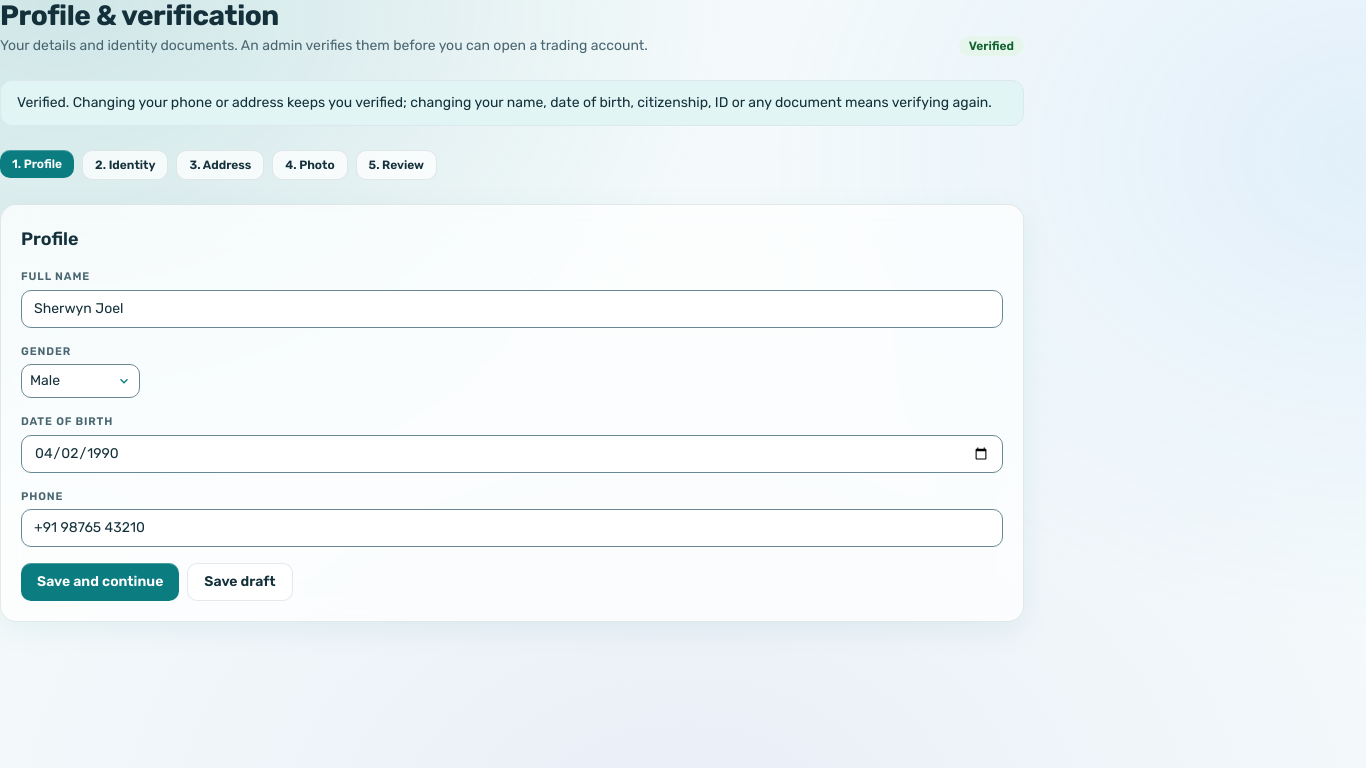
it: an approved investor who changes their name is told to submit again
Step 1. Replace the text in the field labelled "Full name" with "Sherwyn J" → {"x": 512, "y": 309}, box [21, 290, 1003, 328]
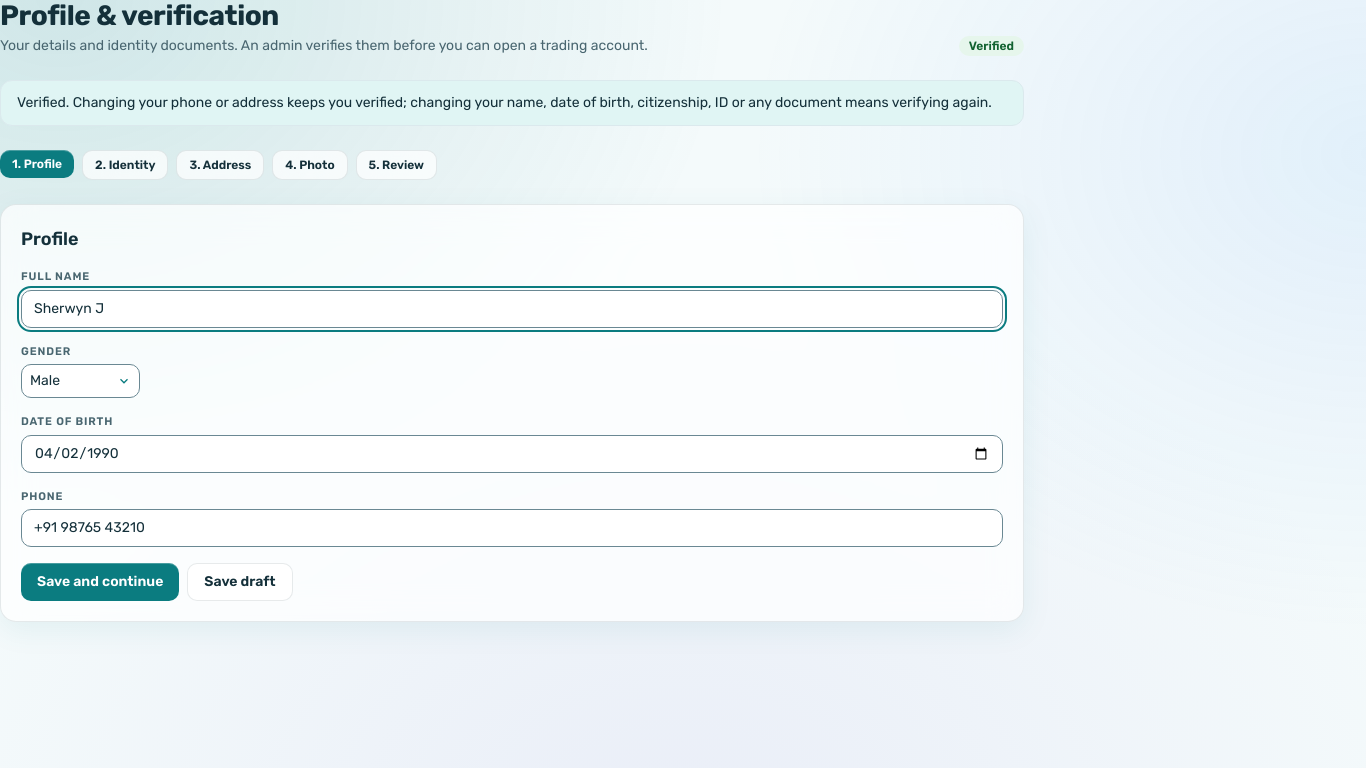
Step 2. Click the button "Save draft" → {"x": 240, "y": 582}, box [187, 563, 293, 601]
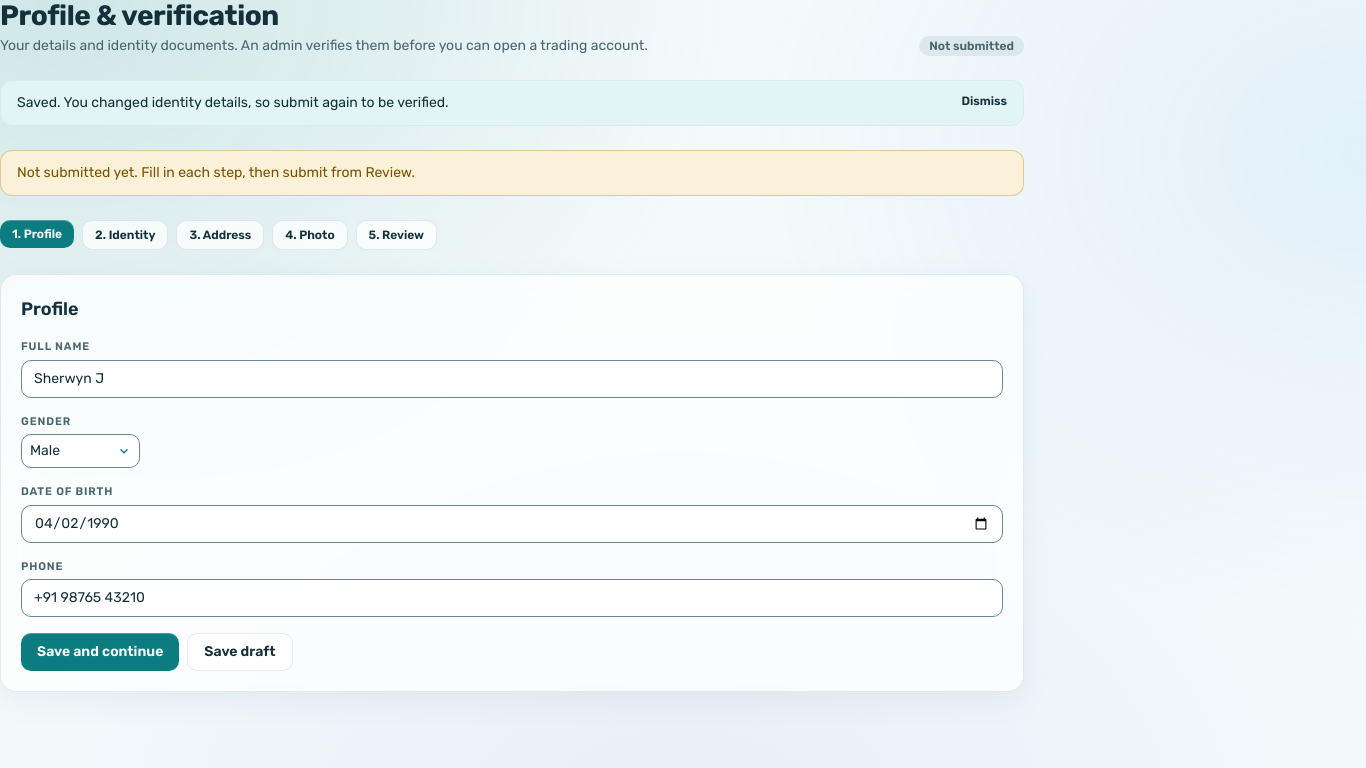
Now the text "Saved. You changed identity details, so submit again to be verified." is shown, box [17, 93, 449, 113]
Now the text "Not submitted" is shown, box [919, 36, 1024, 56]
